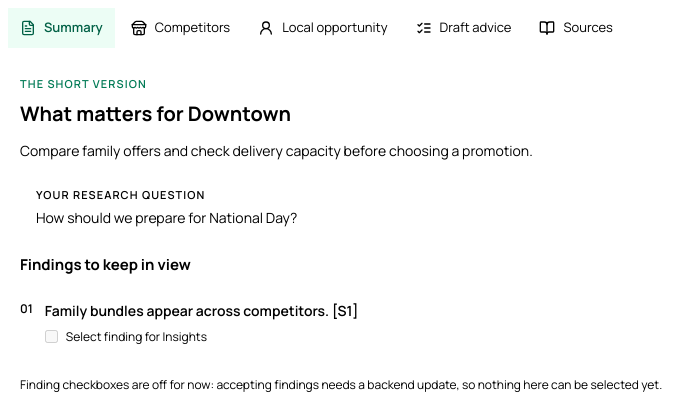
Test: ReportReaderView › renders honest empty and expired-source states
Click the button "Competitors" at point(180, 28), box [119,8,242,48]
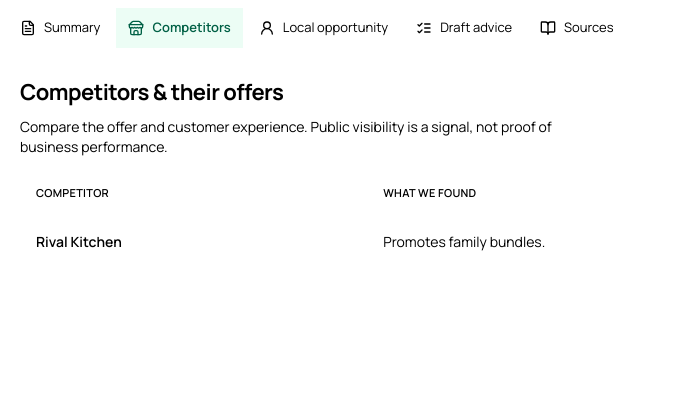
Click the button "Draft advice" at point(464, 28), box [404,8,524,48]
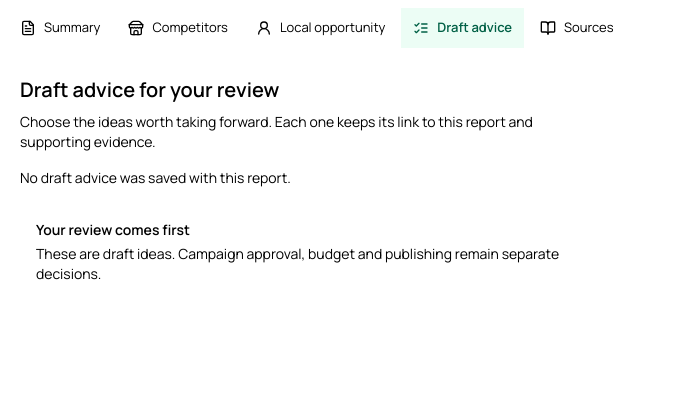
Now the text "No draft advice was saved with this report." is shown, box [20,168,291,186]
Click the button "Sources" at point(577, 28), box [528,8,626,48]
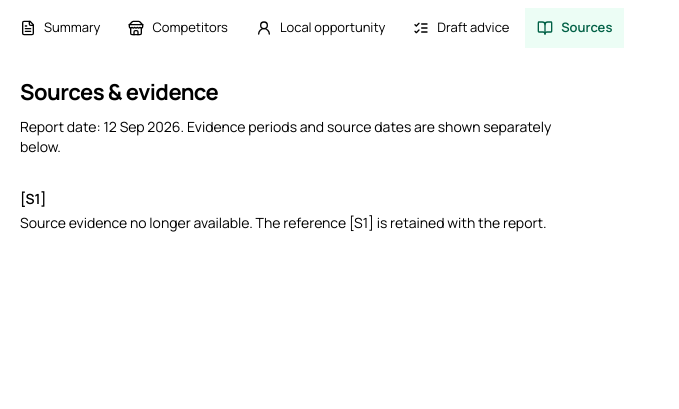
Now the text "Source evidence no longer available" is shown, box [20,212,354,232]
Now the element with test id "reader-source-S1" shows "[S1]", box [26,188,40,208]
